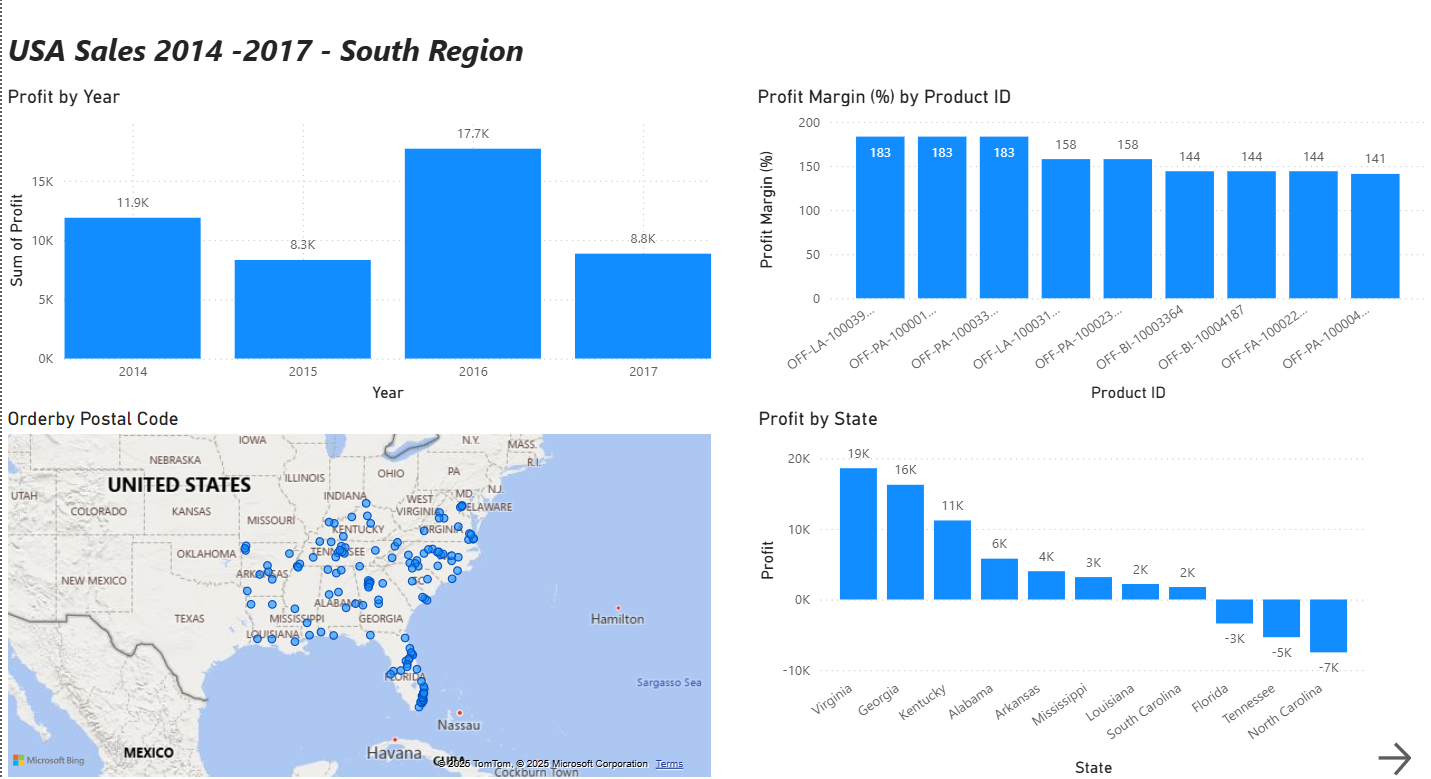

What the dashboard file says about the page in this screenshot:
{"tool":"powerbi","page":{"name":"South Region Overall","canvas":[1280,720],"ordinal":1},"visuals":[{"type":"columnChart","title":"Profit by State","fields":{"Category":["Sample - Superstore.State"],"Y":["Sum(Sample - Superstore.Profit)"]},"box":[672.1,384.2,554.4,335.6],"z":0},{"type":"textbox","box":[0,40,640,64],"z":1000},{"type":"map","title":"Orderby Postal Code","fields":{"Category":["Sample - Superstore.Postal Code"]},"box":[0,384,640,336],"z":2000},{"type":"columnChart","title":"Profit Margin (%) by Product ID","fields":{"Category":["Sample - Superstore.Product ID"],"Y":["Sum(Sample - Superstore.Profit Margin (%))"]},"box":[672,96,608,288],"z":3000},{"type":"columnChart","title":" Profit by Year","fields":{"Category":["Sample - Superstore.Year"],"Y":["Sum(Sample - Superstore.Profit)"]},"box":[0,96,640,288],"z":4000},{"type":"actionButton","box":[1227,680,53,39.5],"z":4002}]}

Visuals, with their boxes on the page's 1280x720 design canvas (x1, y1, x2, y2). These are canvas units, not pixel positions in the 1431x779 screenshot, which may show the page scaled, cropped or inside an application window:
"Profit by State" columnChart: bbox=[672, 384, 1226, 720]
textbox: bbox=[0, 40, 640, 104]
"Orderby Postal Code" map: bbox=[0, 384, 640, 720]
"Profit Margin (%) by Product ID" columnChart: bbox=[672, 96, 1280, 384]
" Profit by Year" columnChart: bbox=[0, 96, 640, 384]
actionButton: bbox=[1227, 680, 1280, 720]
